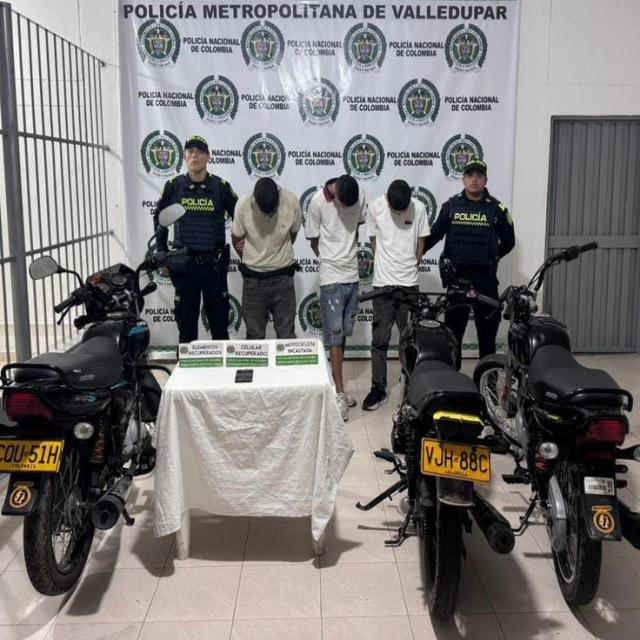9_cabeza_baja: (327, 174, 359, 210)
